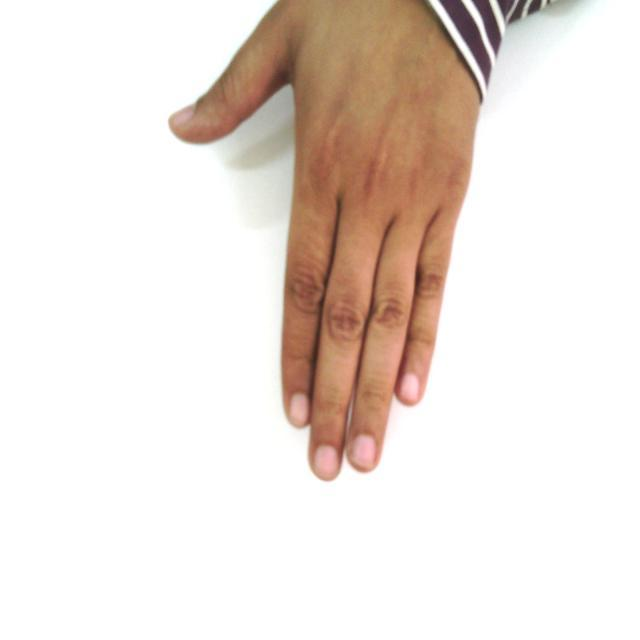Fingernail: (315, 446, 339, 479), (352, 435, 376, 468), (290, 394, 309, 428), (170, 106, 195, 126), (401, 375, 419, 402)
